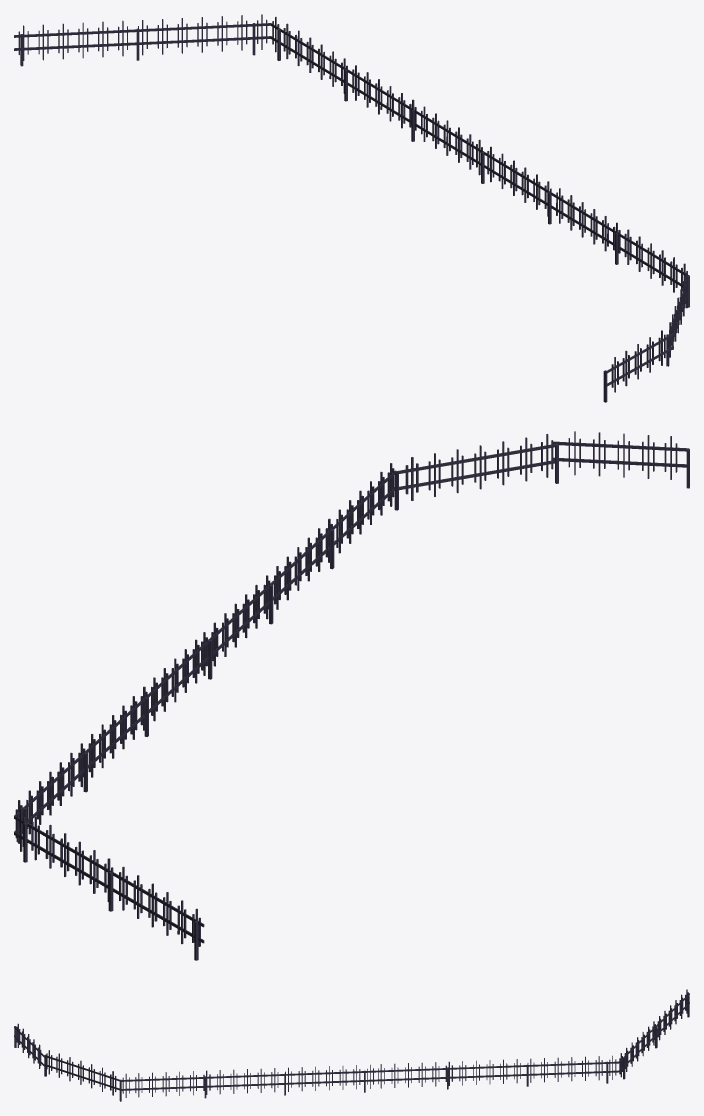
Rendered from UedaCampusEntranceGate_fence.fbx.
The picture shows the model from 3 angles, top to bottom: view 1: azimuth 30°, elevation 25°; view 2: azimuth 150°, elevation 25°; view 3: azimuth 270°, elevation 25°; orthographic projection. The views are drawn at different scales.
Parts seen in each view (by area): view 1: UedaCampusEntranceGate_fence; view 2: UedaCampusEntranceGate_fence; view 3: UedaCampusEntranceGate_fence.
Boxes of the visible parts, bbox=[...] form: UedaCampusEntranceGate_fence: bbox=[14, 14, 689, 402]; UedaCampusEntranceGate_fence: bbox=[14, 431, 689, 960]; UedaCampusEntranceGate_fence: bbox=[14, 989, 689, 1101].
Bounding box in the file's own units: 5.37 × 0.808 × 17.61.
